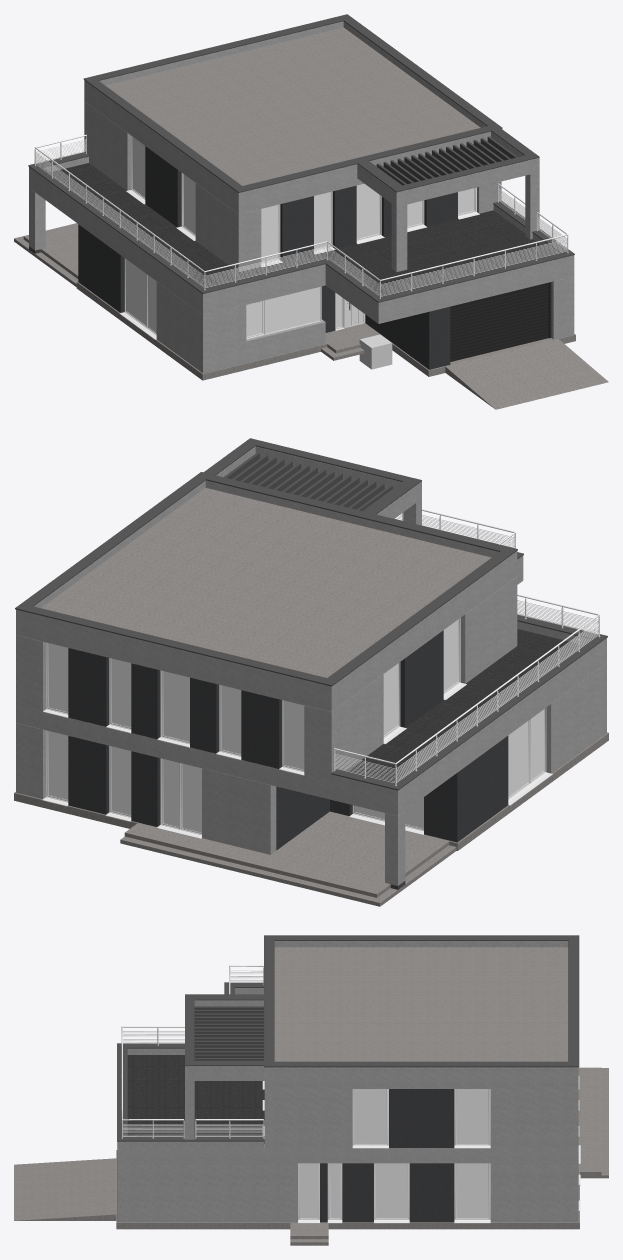
File: lab-space.glb
3 views of the same model, one above another, from view 1: azimuth 30°, elevation 25°; view 2: azimuth 150°, elevation 25°; view 3: azimuth 270°, elevation 25° (orthographic). The views are drawn at different scales.
Visible parts, largest first — view 1: roof, floor, wall.001, fence, wall.004, wall, wall.003, wall.005, metal.003, basement.002, wall.002, garagedoor.001 (+14 smaller); view 2: roof, wall.004, wall.001, basement, wall.005, wall.002, wall.003, wall, metal.003, floor, fence, metal.002 (+14 smaller); view 3: roof, wall, wall.003, wall.001, wall.004, floor, metal.003, basement.002, wall.002, Window.040, basement, wall.005 (+10 smaller).
Part boxes in pixels (bbox=[...]): roof: bbox=[106, 27, 480, 185]; floor: bbox=[50, 163, 552, 295]; wall.001: bbox=[29, 156, 574, 323]; fence: bbox=[34, 134, 568, 298]; wall.004: bbox=[84, 21, 490, 214]; wall: bbox=[156, 276, 574, 373]; wall.003: bbox=[84, 101, 501, 271]; wall.005: bbox=[145, 146, 457, 261]; metal.003: bbox=[83, 14, 502, 192]; basement.002: bbox=[445, 339, 608, 409]; wall.002: bbox=[78, 224, 450, 369]; garagedoor.001: bbox=[450, 282, 551, 361]; roof: bbox=[41, 488, 491, 677]; wall.004: bbox=[16, 480, 517, 711]; wall.001: bbox=[16, 555, 606, 815]; basement: bbox=[120, 812, 456, 906]; wall.005: bbox=[68, 630, 443, 768]; wall.002: bbox=[68, 736, 508, 850]; wall.003: bbox=[16, 576, 517, 781]; wall: bbox=[16, 663, 606, 854]; metal.003: bbox=[15, 472, 517, 686]; floor: bbox=[347, 629, 581, 781]; fence: bbox=[334, 509, 600, 785]; metal.002: bbox=[224, 452, 392, 510]; roof: bbox=[274, 947, 568, 1061]; wall: bbox=[117, 1163, 578, 1222]; wall.003: bbox=[264, 1089, 578, 1147]; wall.001: bbox=[117, 988, 578, 1163]; wall.004: bbox=[264, 941, 578, 1088]; floor: bbox=[127, 1055, 264, 1143]; metal.003: bbox=[264, 935, 579, 1067]; basement.002: bbox=[14, 1158, 116, 1220]; wall.002: bbox=[320, 1163, 454, 1222]; Window.040: bbox=[352, 1089, 490, 1148]; basement: bbox=[290, 1067, 608, 1245]; wall.005: bbox=[389, 1089, 454, 1147].
Bounding box in the file's own units: 17.16 × 7.95 × 24.65.
17 materials, 7 textured.
